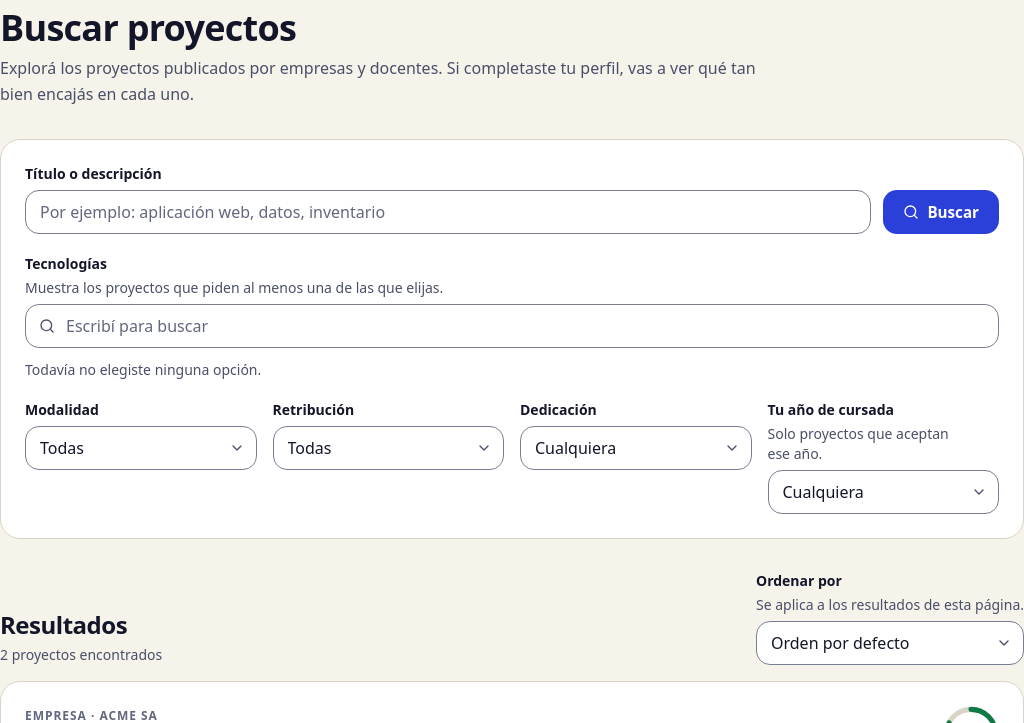
Test: ProyectosPage › si la búsqueda falla muestra el mensaje con un botón para reintentar
Type "api" into the search field labelled "Título o descripción". click: (448, 212)
box: x1=25 y1=190 x2=871 y2=234
Then press Enter
(page scrolled)
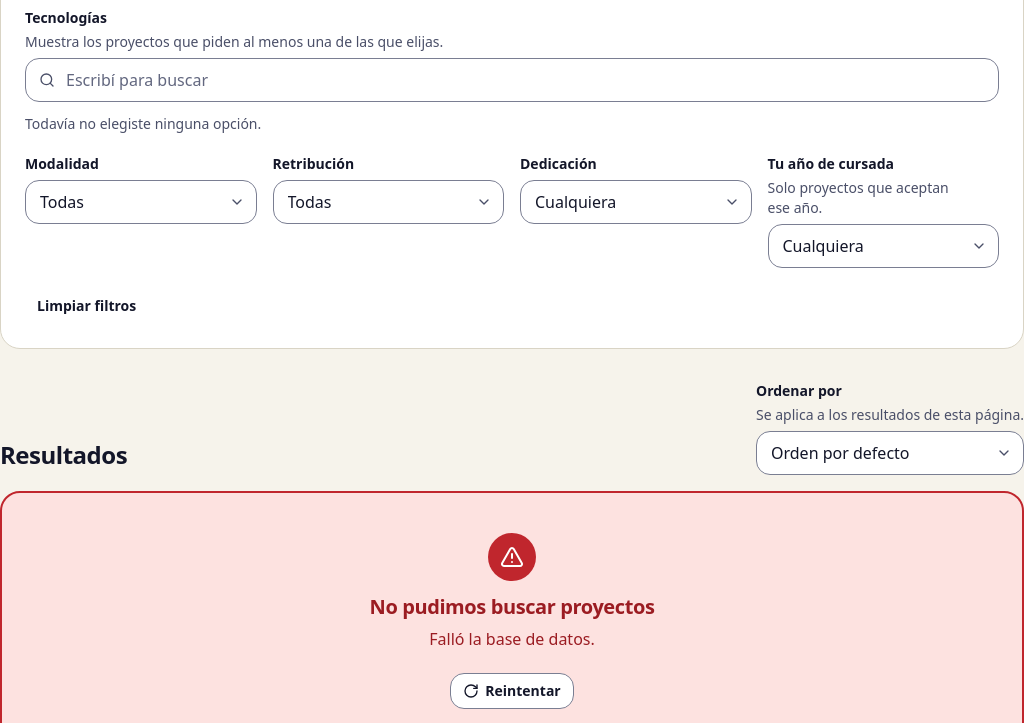
Check: the message shows "No pudimos buscar proyectos", box x1=370 y1=593 x2=654 y2=620
Check: the text "Falló la base de datos." is shown, box x1=429 y1=627 x2=595 y2=653
Click the button "Reintentar". click: (512, 691)
box: x1=450 y1=673 x2=574 y2=709
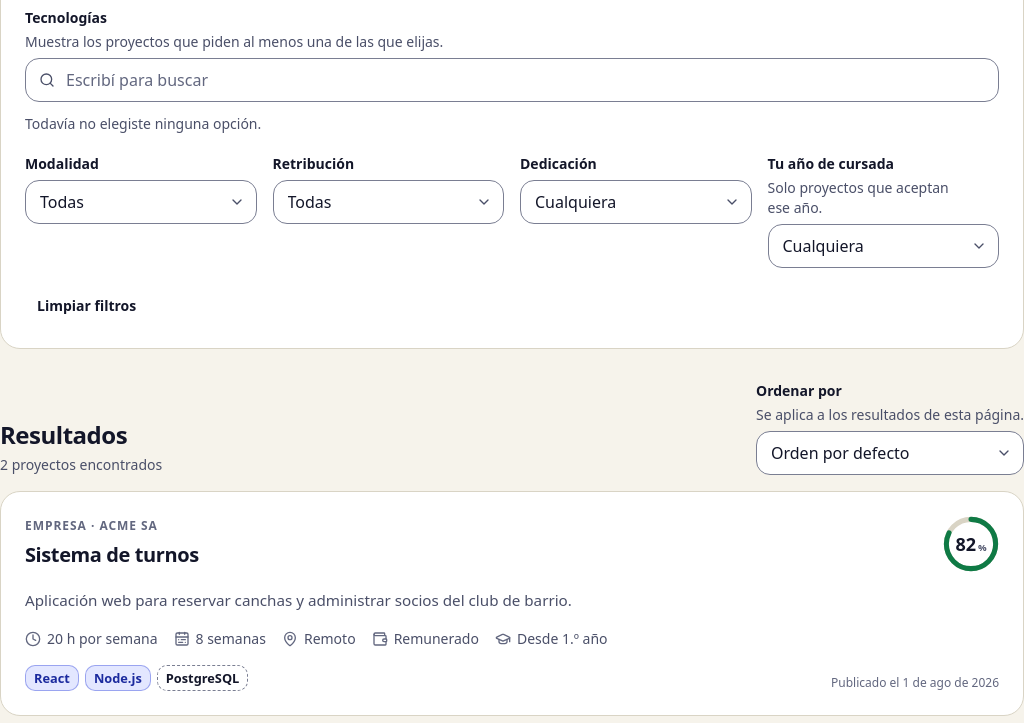
Check: the link "Sistema de turnos" is shown, box x1=25 y1=541 x2=199 y2=568
